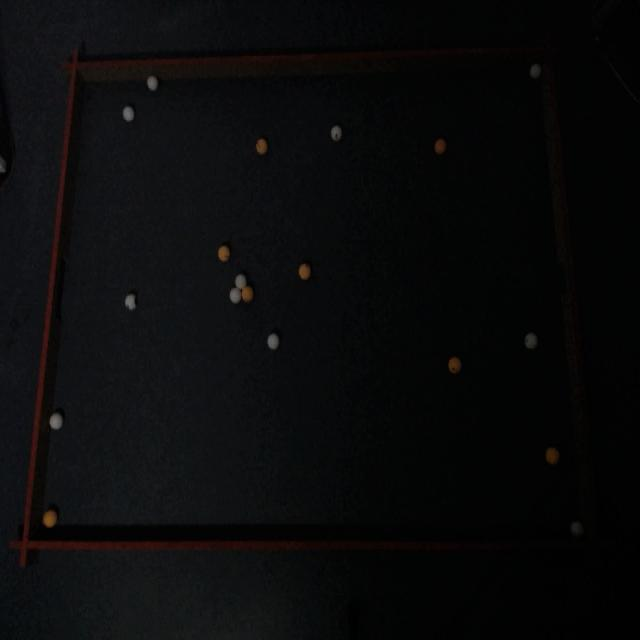orange_ball: (42, 509, 57, 528), (546, 447, 560, 466), (255, 138, 268, 155), (448, 357, 461, 374), (298, 263, 310, 280), (218, 245, 230, 262), (242, 285, 254, 302), (435, 138, 446, 154)
white_ball: (50, 412, 64, 431), (525, 333, 537, 350), (268, 334, 280, 351), (230, 287, 242, 304), (146, 75, 158, 91), (235, 273, 247, 289), (571, 521, 583, 537), (123, 105, 134, 122), (331, 125, 342, 142), (530, 63, 541, 78), (126, 298, 136, 311)
